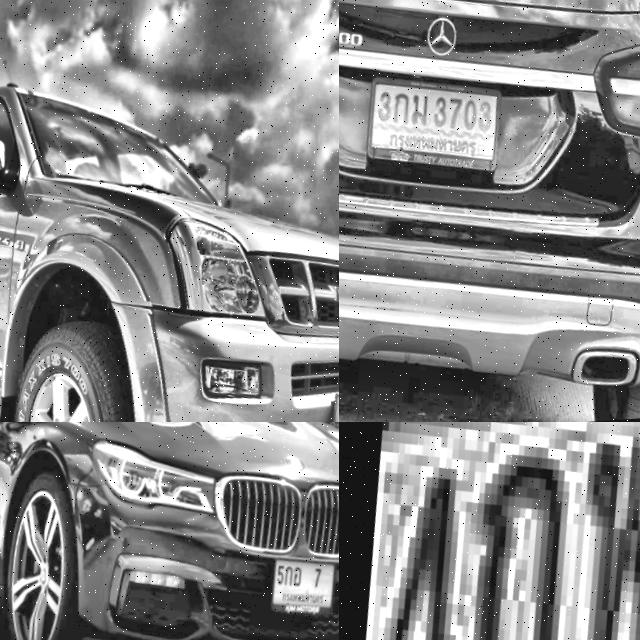license-plate: (339, 422, 640, 640), (350, 70, 501, 187), (253, 555, 331, 625), (308, 382, 339, 422)
